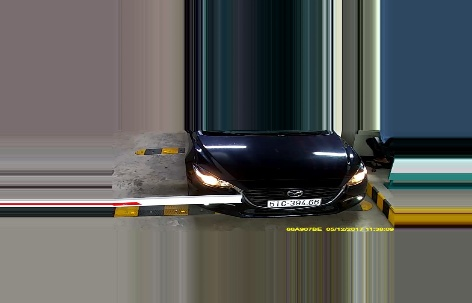plate: (263, 194, 320, 210)
